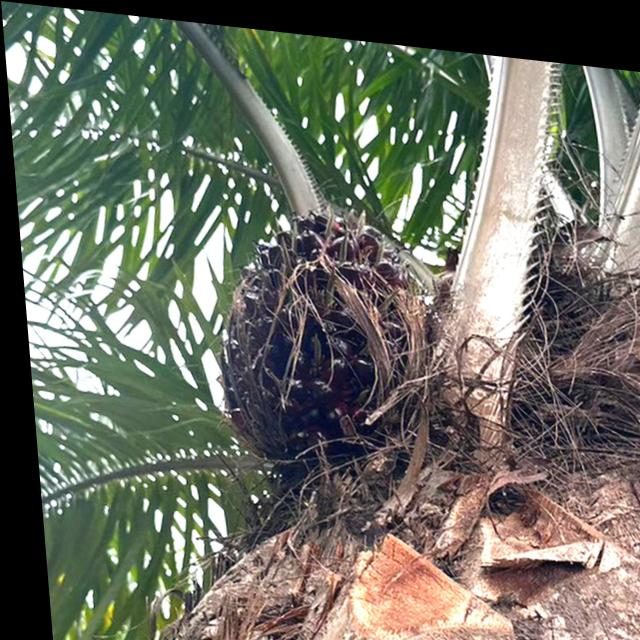ripe: (178, 175, 464, 505)
